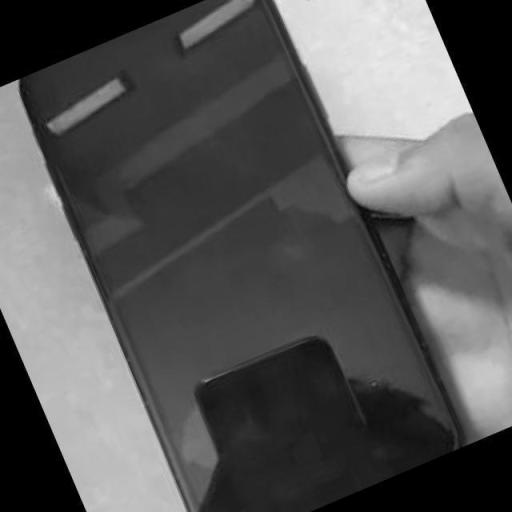phone: (12, 0, 465, 511)
